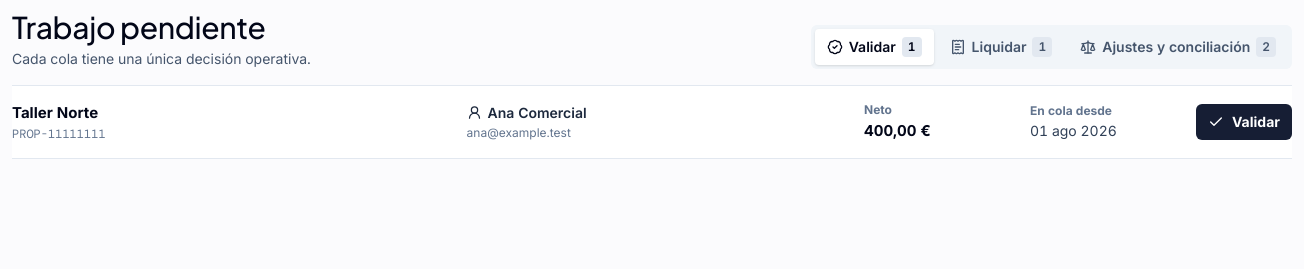
Test: CommissionOperationsPanel › requires an explicit validation reason before confirmation
The image size is (1304, 269).
Click the button "Validar" at (1244, 122), box [1196, 104, 1292, 140]
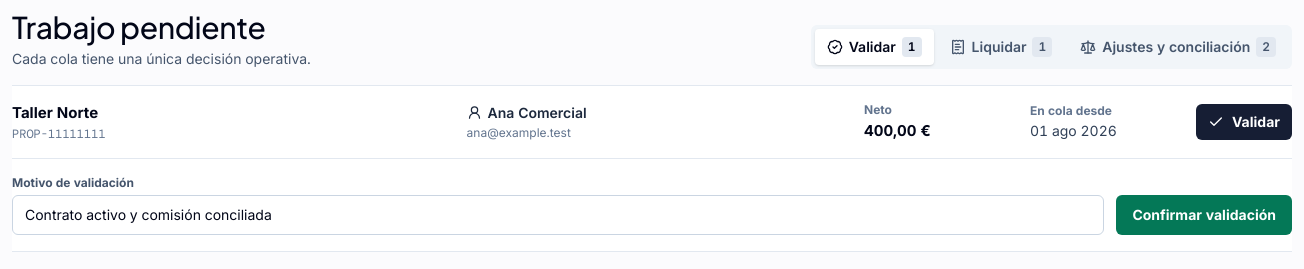
Clear the field labelled "Motivo de validación" at (558, 215), box [12, 195, 1104, 235]
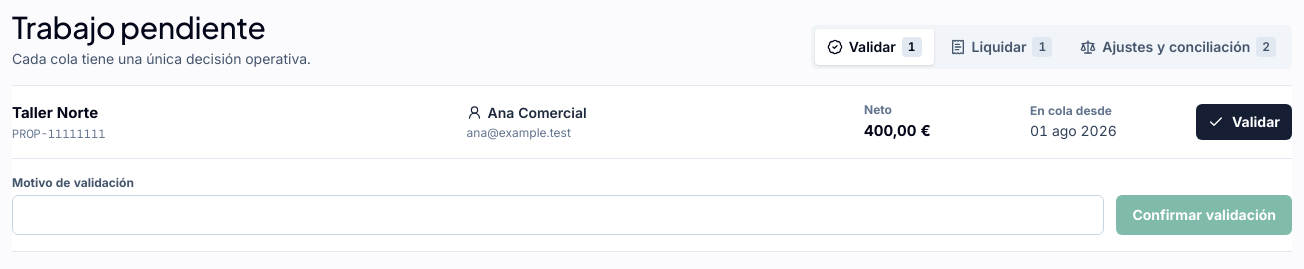
expect the button "Confirmar validación" is disabled: met, box [1116, 195, 1292, 235]
